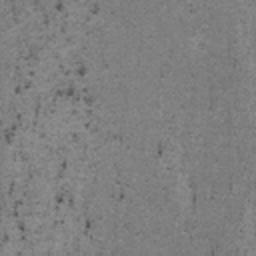Oxide scale of temperature system: (1, 45, 93, 241), (3, 179, 27, 256), (42, 0, 99, 26), (116, 189, 127, 204), (111, 132, 124, 143), (156, 146, 165, 159), (191, 192, 198, 206), (209, 248, 216, 256)
